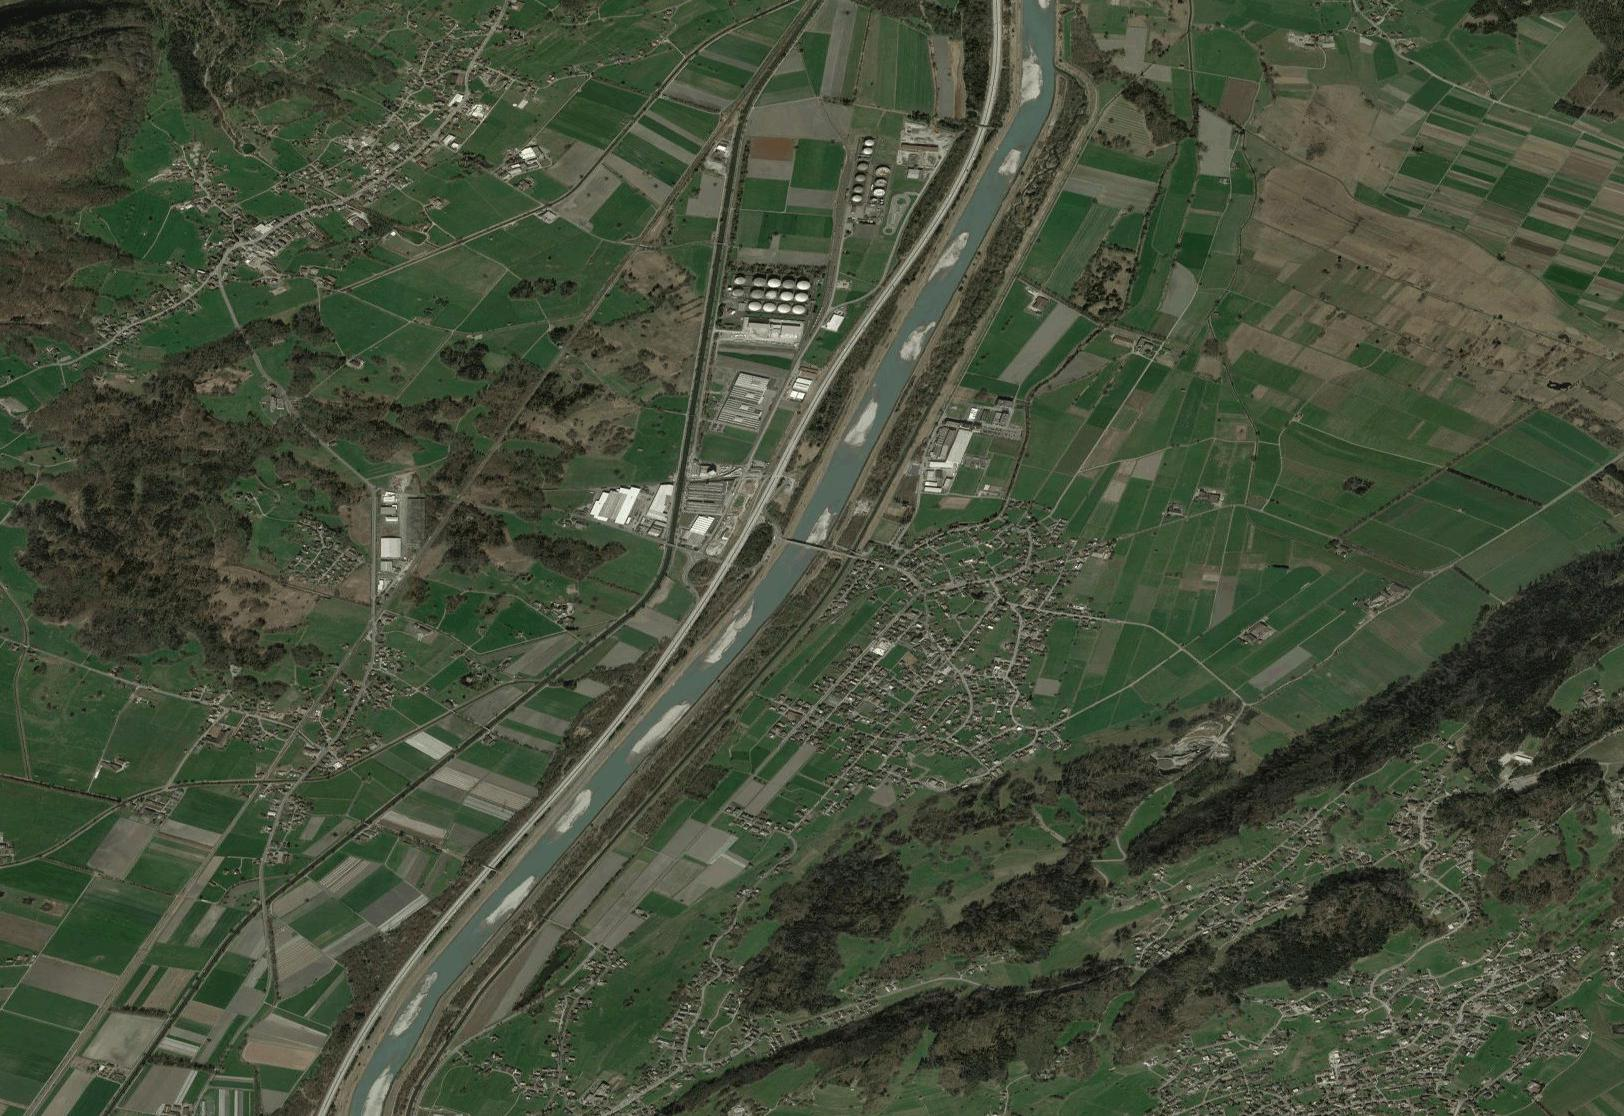bridge: (782, 533, 831, 558)
industrial: (594, 454, 738, 539)
motorway: (898, 152, 971, 272), (827, 269, 898, 388), (444, 821, 527, 923), (529, 720, 612, 822), (610, 620, 692, 722), (692, 504, 761, 618), (761, 384, 831, 499), (965, 1, 1014, 152), (374, 914, 444, 1015), (317, 1017, 371, 1116)
